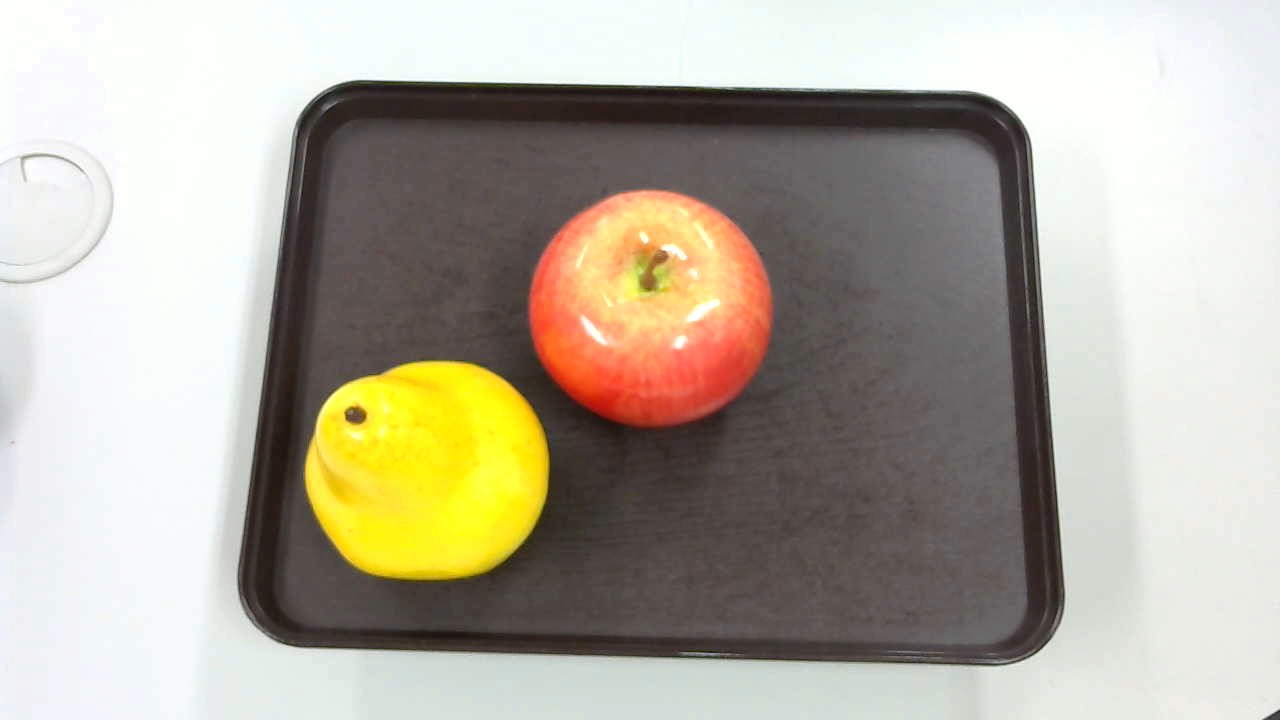red apple: (532, 186, 776, 430)
yellow pear: (302, 352, 550, 590)
